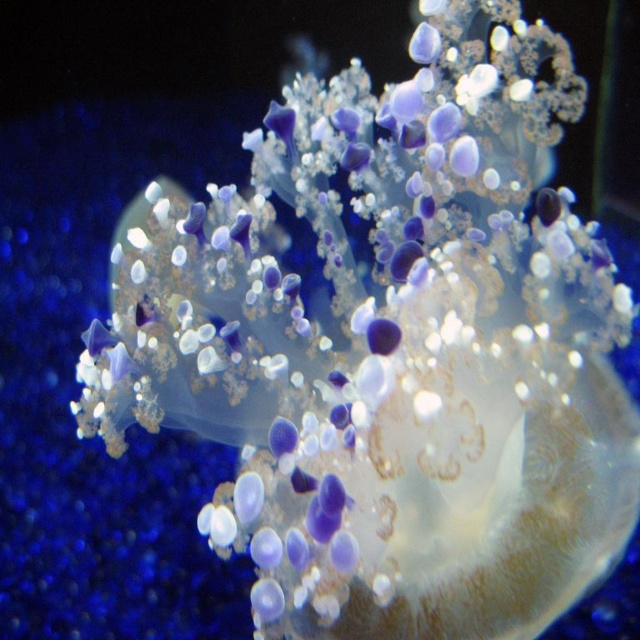Jellyfish: (74, 42, 630, 613)
